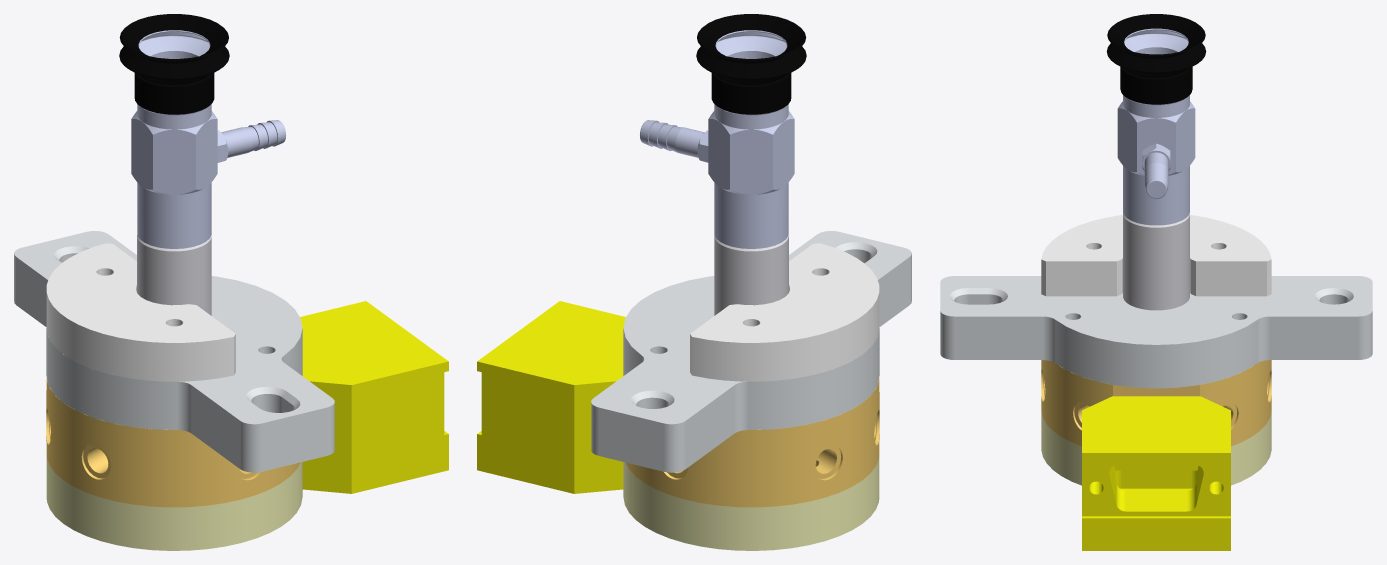
File: 吸盘工具.fbx
3 renders of one model, left to right at view 1: azimuth 30°, elevation 25°; view 2: azimuth 150°, elevation 25°; view 3: azimuth 270°, elevation 25°, orthographic. The views are drawn at different scales.
Visible parts, largest first — view 1: XCZBC.03A.02-1 单吸盘连接盘-1, 6kg副盘接线盒-客户-1, X-ZPY20BN-U6B6 真空吸盘-1, XCZBC.03.02-5 单吸盘配重块-2, 6kg副盘-客户-1, 6kg钢球座-客户-1, XCZBC.03.02-2 单吸盘连接块-2; view 2: XCZBC.03A.02-1 单吸盘连接盘-1, 6kg副盘接线盒-客户-1, X-ZPY20BN-U6B6 真空吸盘-1, XCZBC.03.02-5 单吸盘配重块-2, 6kg副盘-客户-1, 6kg钢球座-客户-1, XCZBC.03.02-2 单吸盘连接块-2; view 3: XCZBC.03A.02-1 单吸盘连接盘-1, 6kg副盘接线盒-客户-1, X-ZPY20BN-U6B6 真空吸盘-1, XCZBC.03.02-5 单吸盘配重块-2, 6kg副盘-客户-1, XCZBC.03.02-2 单吸盘连接块-2, 6kg钢球座-客户-1.
Part boxes in pixels (x1,y1,x2,y2): XCZBC.03A.02-1 单吸盘连接盘-1: [14, 231, 334, 472]; 6kg副盘接线盒-客户-1: [300, 301, 448, 493]; X-ZPY20BN-U6B6 真空吸盘-1: [119, 14, 285, 248]; XCZBC.03.02-5 单吸盘配重块-2: [46, 243, 235, 381]; 6kg副盘-客户-1: [46, 378, 300, 507]; 6kg钢球座-客户-1: [46, 457, 302, 550]; XCZBC.03.02-2 单吸盘连接块-2: [137, 235, 211, 315]; XCZBC.03A.02-1 单吸盘连接盘-1: [591, 231, 911, 472]; 6kg副盘接线盒-客户-1: [477, 301, 625, 493]; X-ZPY20BN-U6B6 真空吸盘-1: [640, 14, 806, 248]; XCZBC.03.02-5 单吸盘配重块-2: [690, 243, 879, 381]; 6kg副盘-客户-1: [625, 378, 879, 507]; 6kg钢球座-客户-1: [623, 457, 879, 550]; XCZBC.03.02-2 单吸盘连接块-2: [714, 235, 788, 315]; XCZBC.03A.02-1 单吸盘连接盘-1: [940, 276, 1372, 388]; 6kg副盘接线盒-客户-1: [1082, 396, 1230, 550]; X-ZPY20BN-U6B6 真空吸盘-1: [1106, 14, 1206, 225]; XCZBC.03.02-5 单吸盘配重块-2: [1041, 215, 1271, 296]; 6kg副盘-客户-1: [1041, 360, 1271, 446]; XCZBC.03.02-2 单吸盘连接块-2: [1123, 212, 1189, 310]; 6kg钢球座-客户-1: [1041, 412, 1271, 485].
Bounding box in the file's own units: 2.93 × 3.75 × 3.54.
